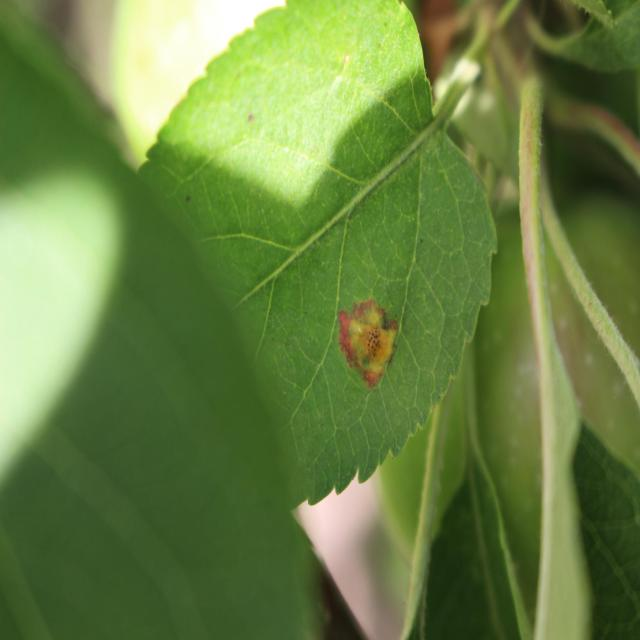Rust: (332, 292, 408, 393)
